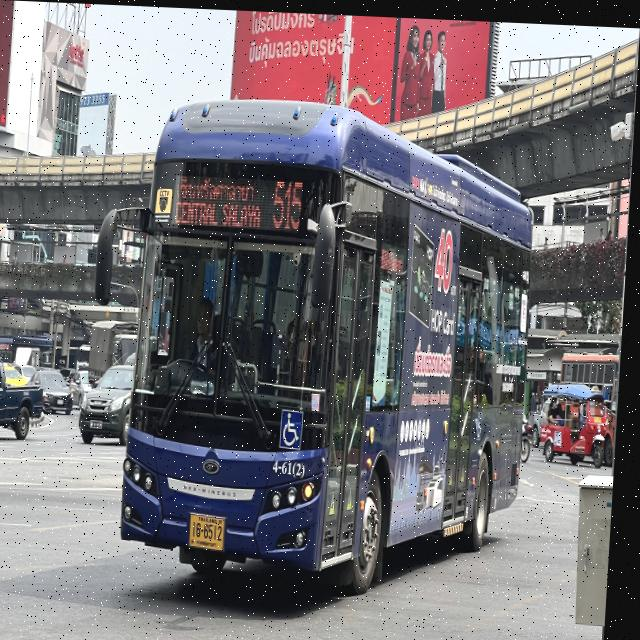Bus Line Number: (272, 166, 309, 235)
Bus Side Number: (273, 454, 316, 479)
Destination Sign: (169, 171, 272, 234)
TSB-Bus: (107, 97, 536, 590)
